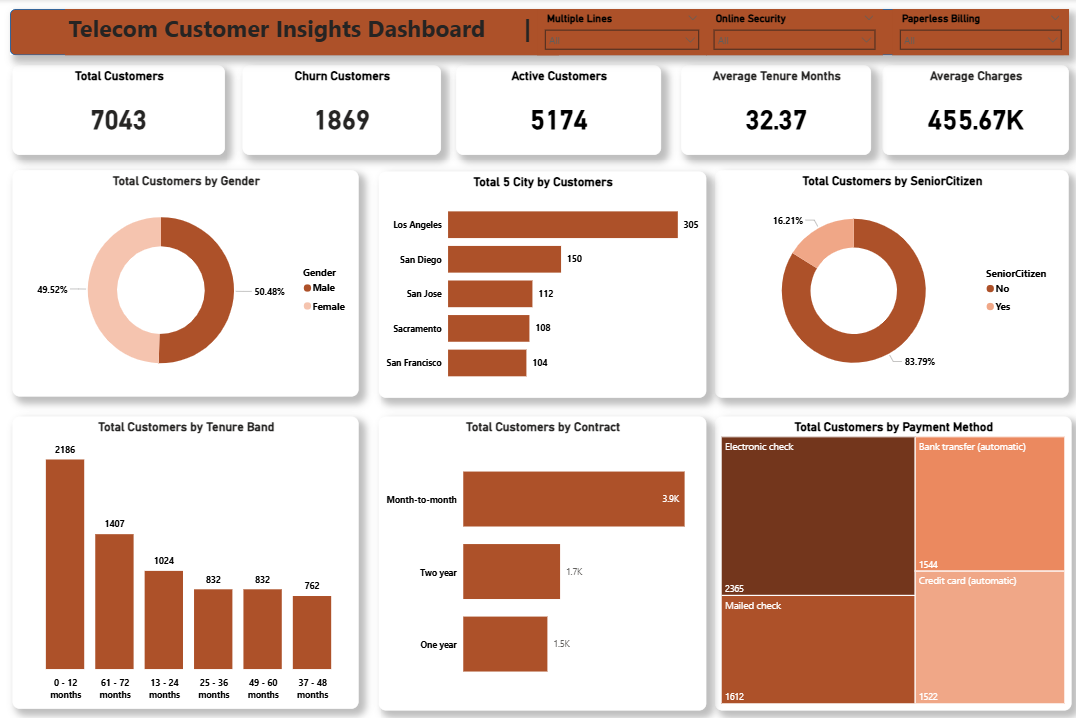

What the dashboard file says about the page in this screenshot:
{"tool":"powerbi","page":{"name":"Telecom_Customer","canvas":[1500,1000],"ordinal":0},"visuals":[{"type":"card","title":"Total Customers","fields":{"Values":["Measure Table.Total Customers"]},"box":[24.2,91.6,293.7,124.4],"z":0},{"type":"card","title":"Churn Customers","fields":{"Values":["Measure Table.Churn Customers"]},"box":[342.1,91.6,274.7,124.4],"z":1000},{"type":"card","title":"Active Customers","fields":{"Values":["Measure Table.Retained Customers"]},"box":[637.5,91.6,283.3,124.4],"z":2000},{"type":"card","title":"Average Charges","fields":{"Values":["Measure Table.Average Charges"]},"box":[1226.7,91.6,257.4,124.4],"z":3000},{"type":"donutChart","fields":{"Category":["Telco_Customer.Gender"],"Y":["Measure Table.Total Customers"]},"box":[24.2,236.7,478.6,312.7],"z":5000},{"type":"donutChart","fields":{"Category":["Telco_Customer.SeniorCitizen"],"Y":["Measure Table.Total Customers"]},"box":[995.2,236.7,488.9,314.4],"z":6000},{"type":"clusteredColumnChart","fields":{"Category":["Telco_Customer.Tenure Band"],"Y":["Measure Table.Total Customers"]},"box":[24.2,577.1,478.6,404.3],"z":7000},{"type":"treemap","fields":{"Group":["Telco_Customer.Payment Method"],"Values":["Measure Table.Total Customers"]},"box":[995.2,577.1,492.4,406],"z":8000},{"type":"card","title":"Average Tenure Months","fields":{"Values":["Measure Table.Average Tenure Months"]},"box":[948.5,91.6,262.6,124.4],"z":8001},{"type":"clusteredBarChart","title":"Total 5 City by Customers","fields":{"Category":["Telco_Customer.City"],"Y":["Measure Table.Total Customers"]},"box":[530.4,238.4,452.7,312.7],"z":8002},{"type":"clusteredBarChart","fields":{"Category":["Telco_Customer.Contract"],"Y":["Measure Table.Total Customers"]},"box":[530.4,577.1,452.7,406],"z":8003},{"type":"shape","box":[20.7,13.8,1463.4,63.9],"z":8004},{"type":"textbox","box":[96.8,13.8,682.5,63.9],"z":8005},{"type":"slicer","fields":{"Values":["Telco_Customer.Paperless Billing"]},"box":[1240.5,13.8,243.6,63.9],"z":8006},{"type":"slicer","fields":{"Values":["Telco_Customer.Online Security"]},"box":[983.1,13.8,243.6,63.9],"z":8007},{"type":"slicer","fields":{"Values":["Telco_Customer.Multiple Lines"]},"box":[749.8,13.8,233.2,63.9],"z":8008}]}

Visuals, with their boxes in screenshot pixels (x1, y1, x2, y2), scaled from the page's 1500x1000 canvas onto the 1076x718 screenshot:
"Total Customers" card: 17/66/228/155
"Churn Customers" card: 245/66/442/155
"Active Customers" card: 457/66/661/155
"Average Charges" card: 880/66/1065/155
donutChart - Telco_Customer.Gender x Measure Table.Total Customers: 17/170/361/394
donutChart - Telco_Customer.SeniorCitizen x Measure Table.Total Customers: 714/170/1065/396
clusteredColumnChart - Telco_Customer.Tenure Band x Measure Table.Total Customers: 17/414/361/705
treemap - Telco_Customer.Payment Method x Measure Table.Total Customers: 714/414/1067/706
"Average Tenure Months" card: 680/66/869/155
"Total 5 City by Customers" clusteredBarChart: 380/171/705/396
clusteredBarChart - Telco_Customer.Contract x Measure Table.Total Customers: 380/414/705/706
shape: 15/10/1065/56
textbox: 69/10/559/56
slicer - Telco_Customer.Paperless Billing: 890/10/1065/56
slicer - Telco_Customer.Online Security: 705/10/880/56
slicer - Telco_Customer.Multiple Lines: 538/10/705/56
